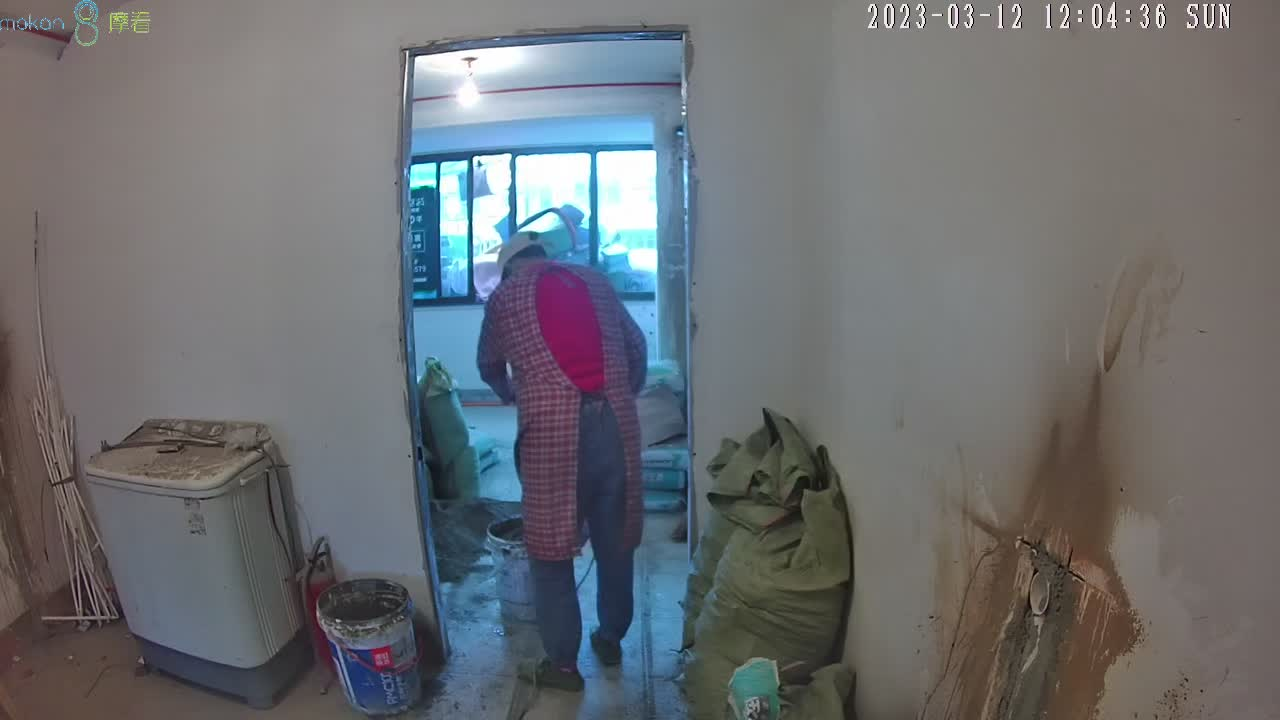people: (477, 230, 648, 690)
window: (406, 149, 659, 300)
